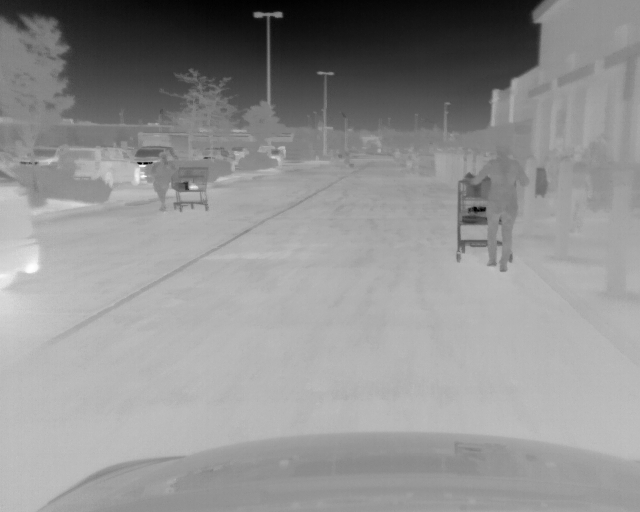car: (1, 170, 41, 289), (36, 145, 143, 189), (132, 145, 177, 183)
people: (467, 141, 530, 273), (569, 145, 590, 235), (149, 151, 174, 209)
